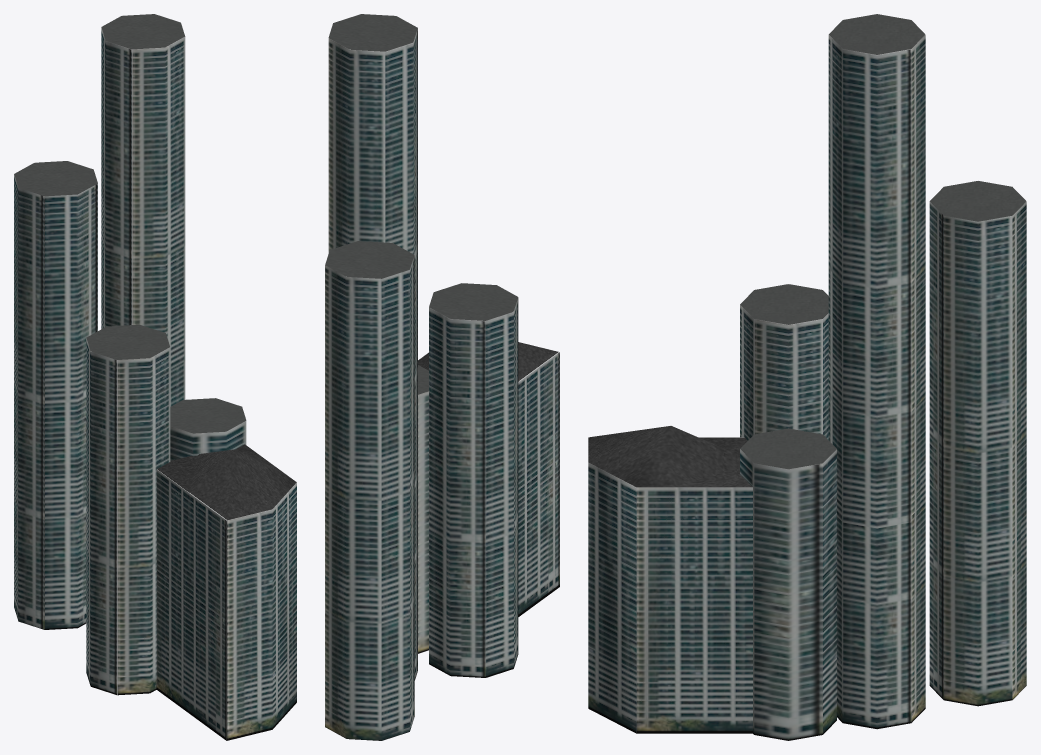
The model's file is bill7.fbx.
3 views of the same model, side by side, from view 1: azimuth 30°, elevation 25°; view 2: azimuth 150°, elevation 25°; view 3: azimuth 270°, elevation 25° (orthographic). The views are drawn at different scales.
Visible parts, largest first — view 1: bill7; view 2: bill7; view 3: bill7.
Part boxes in pixels (box(x1,y1,x2,y2)): bill7: box(14, 14, 296, 740); bill7: box(325, 14, 559, 740); bill7: box(588, 14, 1026, 740).
Size of the model in its own units: 95.73 by 365 by 215.
